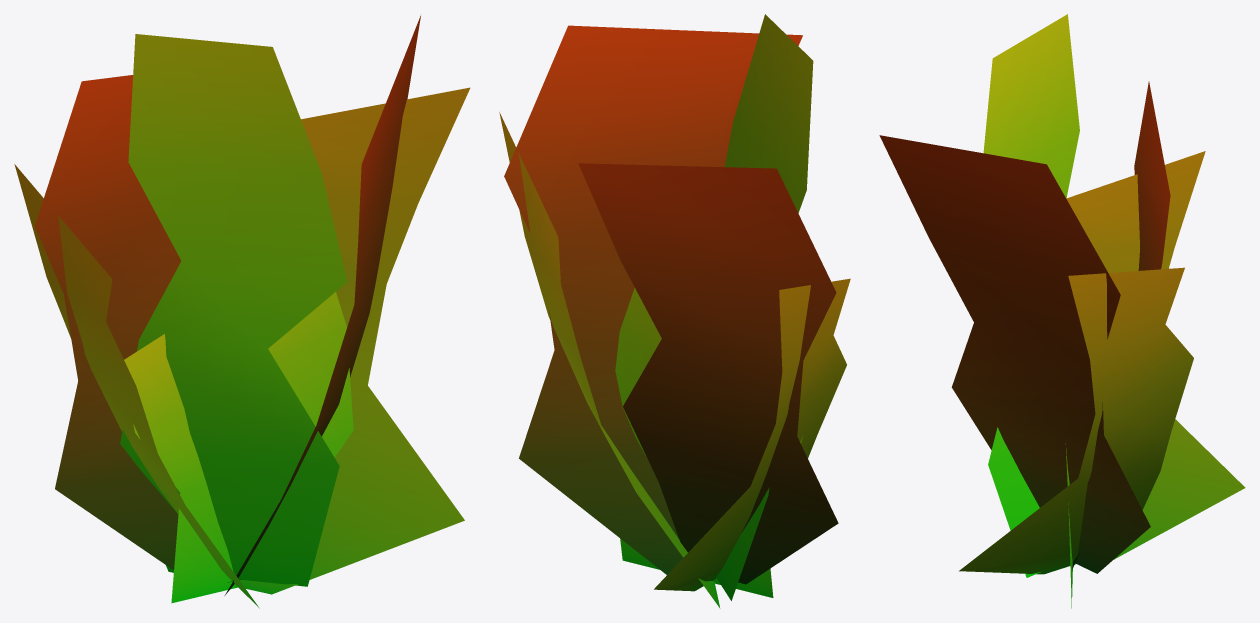
Rendered from Var8Hi36.fbx.
The picture shows the model from 3 angles, left to right: view 1: azimuth 30°, elevation 25°; view 2: azimuth 150°, elevation 25°; view 3: azimuth 270°, elevation 25°; orthographic projection. The views are drawn at different scales.
Parts seen in each view (by area): view 1: bend1; view 2: bend1; view 3: bend1.
Boxes of the visible parts, <box> form: bend1: <box>14,15,470,608</box>; bend1: <box>499,14,850,608</box>; bend1: <box>879,14,1245,608</box>.
Size of the model in its own units: 1.27 by 1.77 by 1.15.
